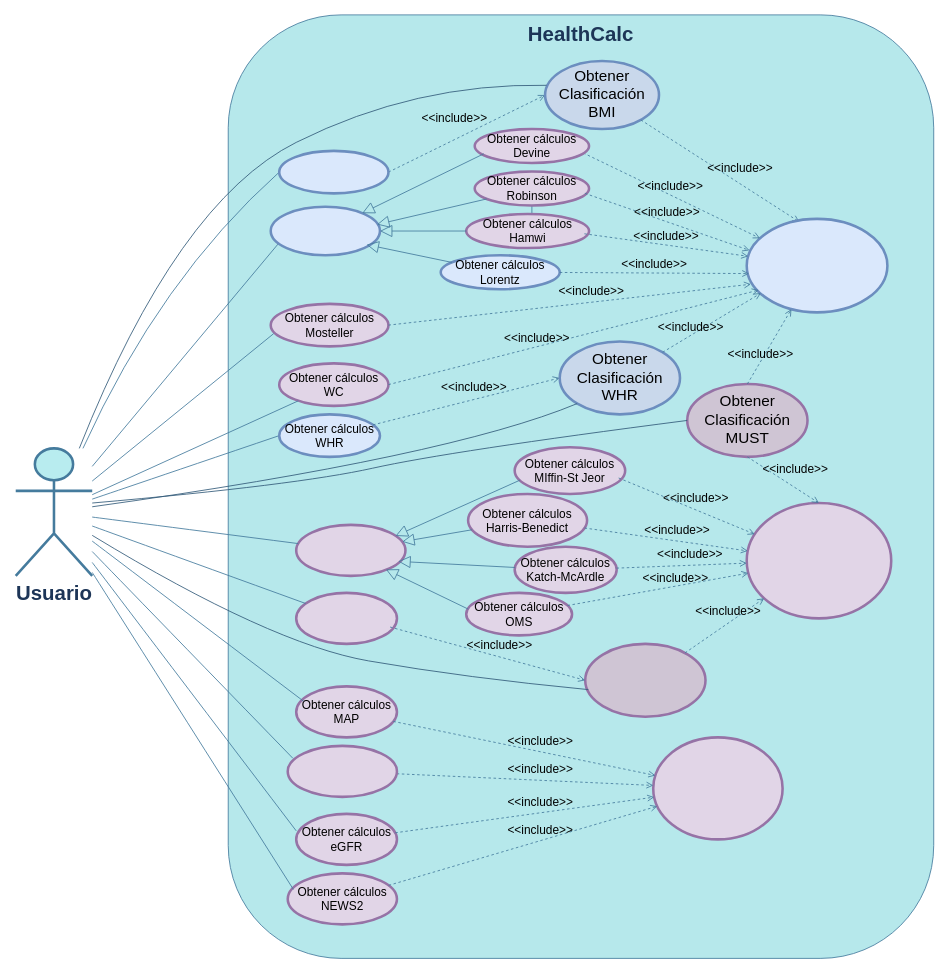
The diagram is 949 pixels wide and 973 high, and some of its shapes have lost their labels. Each missing label, with the centre of its shape:
"Introducir parámetros clínicos" goes at (x=717, y=788).
"Introducir parámetros metabólicos y nutricionales" goes at (x=818, y=560).
"Introducir parámetros morfológicos" goes at (x=816, y=265).
"Obtener Clasificación TDEE" goes at (x=645, y=680).
"Obtener cálculos BMI" goes at (x=333, y=171).
"Obtener cálculos BMR" goes at (x=350, y=550).
"Obtener cálculos IBW" goes at (x=325, y=230).
"Obtener cálculos TDEE" goes at (x=346, y=618).
"Obtener cálculos VAI" goes at (x=342, y=771).
